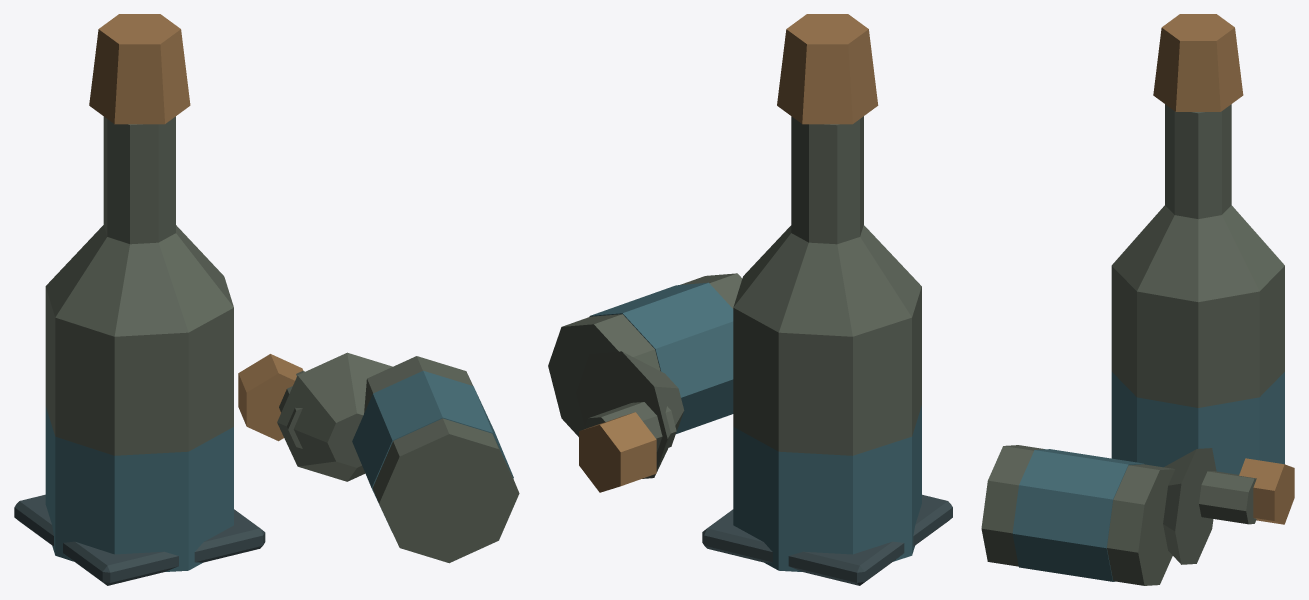
The model's file is item_bottle.fbx.
3 renders of one model, left to right at view 1: azimuth 30°, elevation 25°; view 2: azimuth 150°, elevation 25°; view 3: azimuth 270°, elevation 25°, orthographic. The views are drawn at different scales.
Visible parts, largest first — view 1: item_bottle; view 2: item_bottle; view 3: item_bottle.
Part boxes in pixels (x1,y1,x2,y2): item_bottle: [14, 14, 519, 585]; item_bottle: [548, 14, 952, 585]; item_bottle: [981, 14, 1294, 585].
Bounding box in the file's own units: 0.2448 × 0.2975 × 0.1877.
